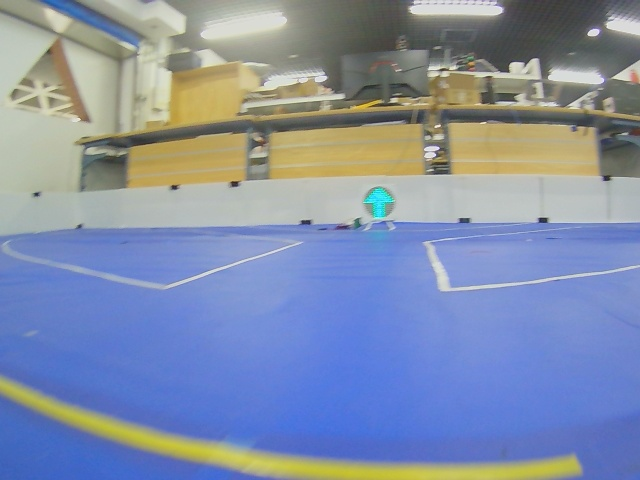straight_green: (363, 186, 395, 219)
